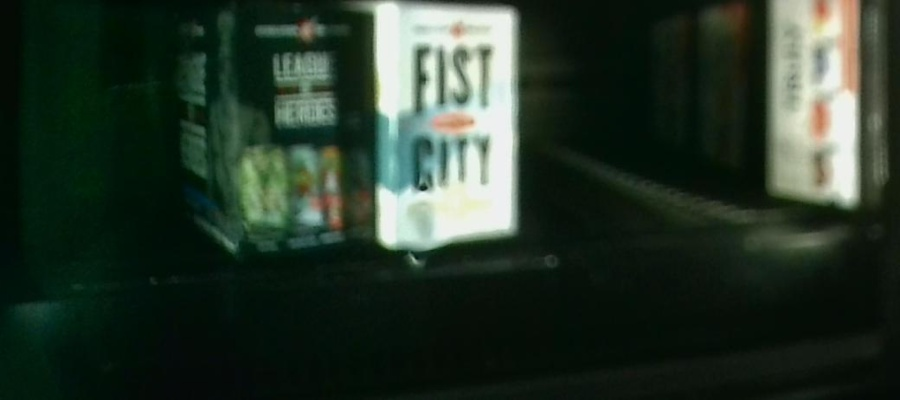bottle: (176, 9, 373, 257), (381, 9, 514, 249)
